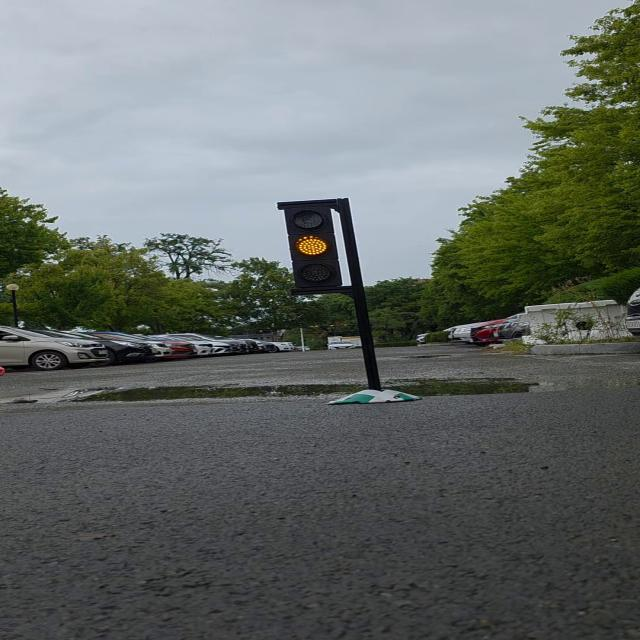yellow: (256, 197, 357, 296)
